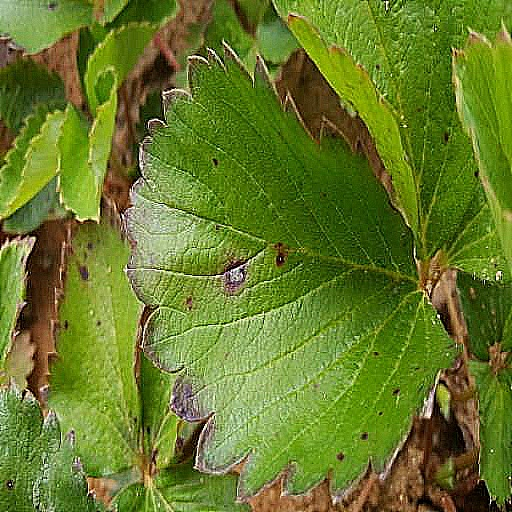Leaf Spot: (119, 38, 463, 502), (37, 192, 146, 478), (0, 376, 106, 511), (135, 346, 181, 477), (0, 233, 37, 375)
